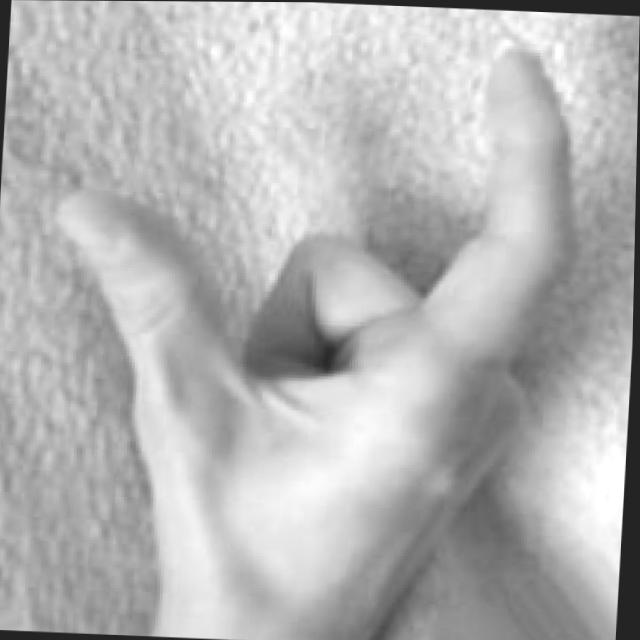U: (24, 14, 594, 640)
